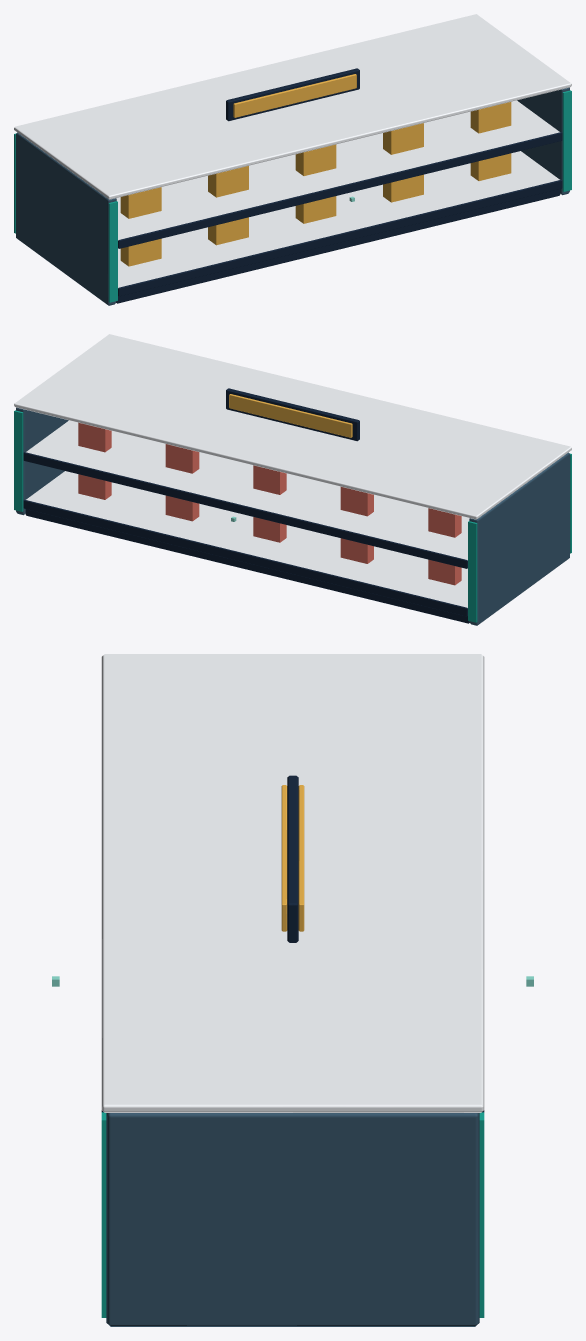
File: CM_Shelf_Double_Aisle_Far.fbx
The picture shows the model from 3 angles, top to bottom: view 1: azimuth 30°, elevation 25°; view 2: azimuth 150°, elevation 25°; view 3: azimuth 270°, elevation 25°; orthographic projection. The views are drawn at different scales.
Visible parts, largest first — view 1: Body; view 2: Body; view 3: Body.
Part boxes in pixels (<box>): Body: <box>14,14,571,305</box>; Body: <box>14,334,571,625</box>; Body: <box>101,654,484,1326</box>.
Bounding box in the file's own units: 28 × 12.6 × 7.6.
1 material, 1 textured.
